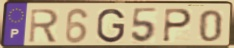0: (198, 8, 225, 43)
5: (130, 6, 160, 45)
6: (64, 7, 92, 45)
G: (95, 8, 126, 45)
P: (161, 8, 194, 44)
R: (27, 8, 60, 45)
